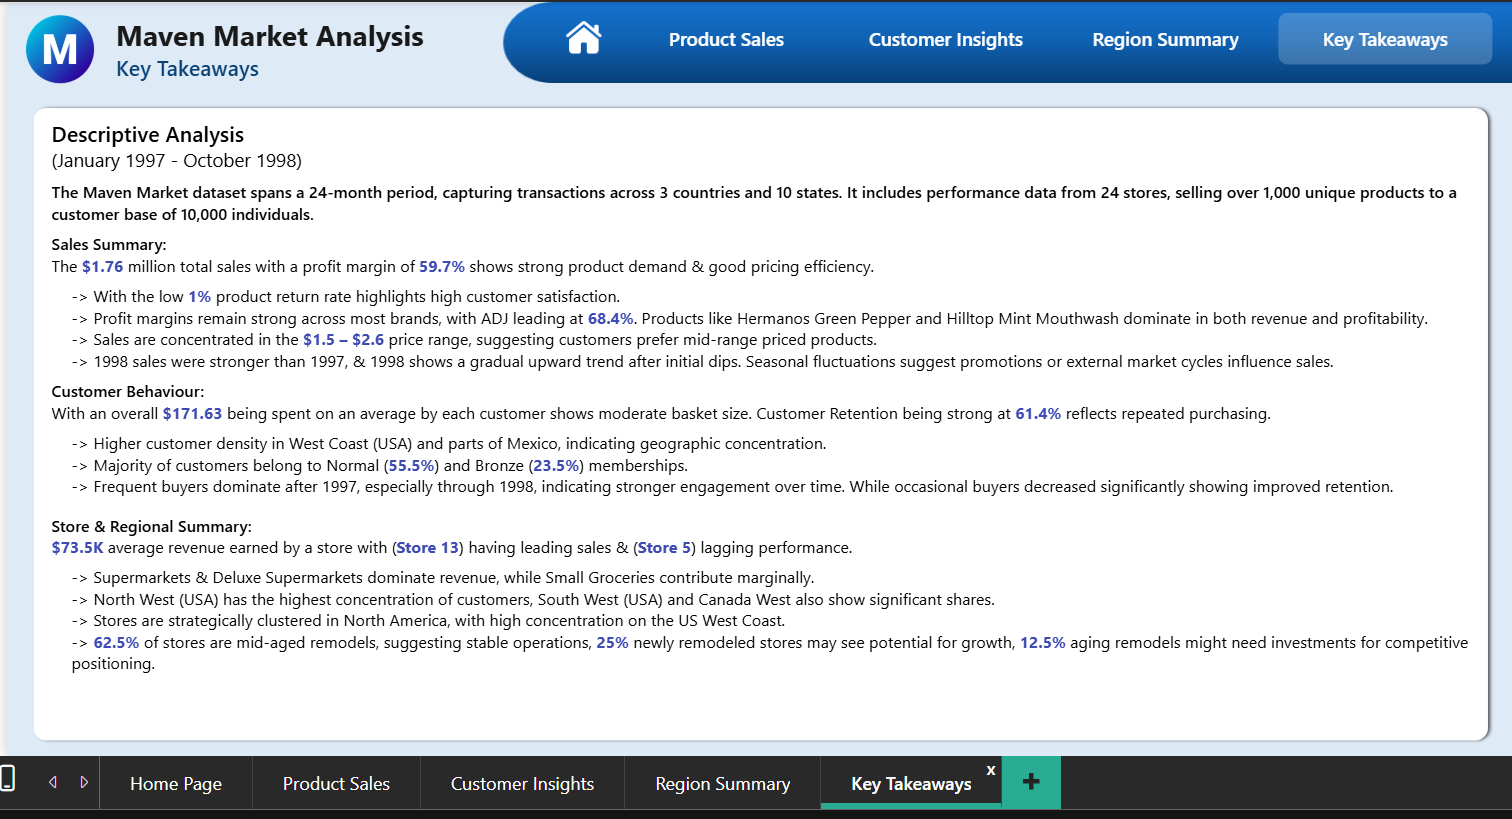

This screenshot's page, from the dashboard's own definition file:
{"tool":"powerbi","page":{"name":"Key Takeaways","canvas":[3000,1500],"ordinal":4},"visuals":[{"type":"image","box":[24.8,21.3,163.3,145.5],"z":1000},{"type":"textbox","box":[211.9,20.9,769.9,146.2],"z":2000},{"type":"shape","box":[41.8,199.9,2915.5,1280.2],"z":7000},{"type":"pageNavigator","box":[1217.5,20.9,1739.8,104.4],"z":19000},{"type":"image","box":[1077.3,20.9,140.3,104.4],"z":20000},{"type":"textbox","box":[84.7,227,2841.6,1219.6],"z":20001}]}

Visuals, with their boxes on the page's 3000x1500 design canvas (x1, y1, x2, y2). These are canvas units, not pixel positions in the 1512x819 screenshot, which may show the page scaled, cropped or inside an application window:
image: <box>25,21,188,167</box>
textbox: <box>212,21,982,167</box>
shape: <box>42,200,2957,1480</box>
pageNavigator: <box>1218,21,2957,125</box>
image: <box>1077,21,1218,125</box>
textbox: <box>85,227,2926,1447</box>
